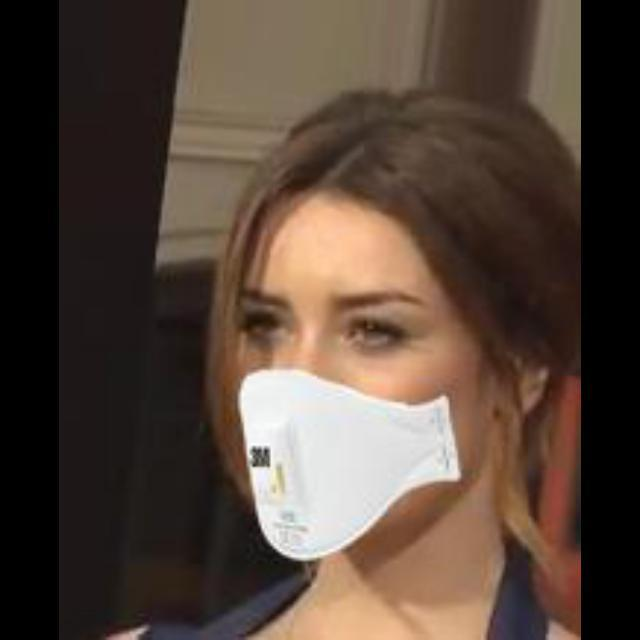suspicion: (192, 141, 530, 557)
